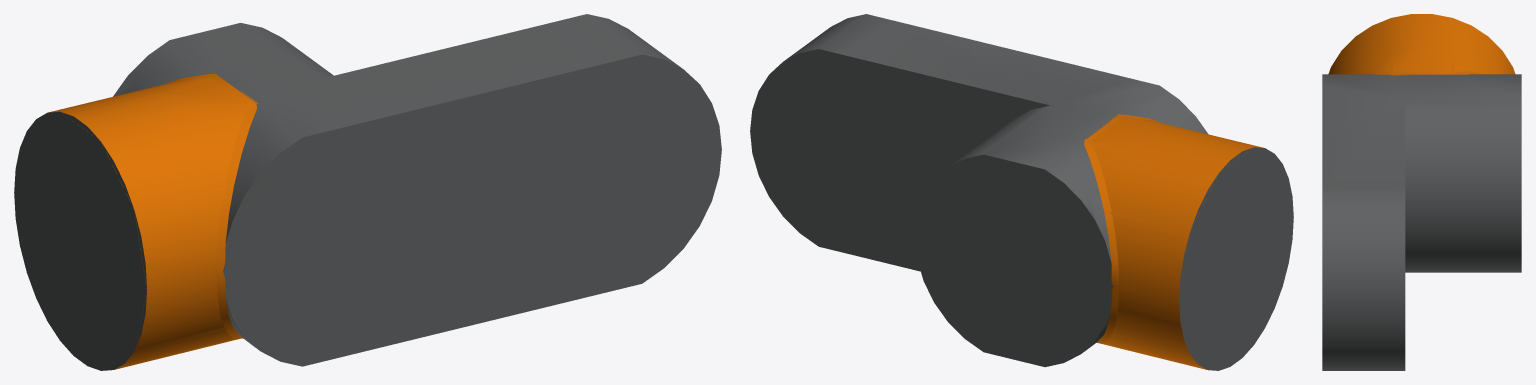
3 views of the same model, side by side, from view 1: azimuth 30°, elevation 25°; view 2: azimuth 150°, elevation 25°; view 3: azimuth 270°, elevation 25° (orthographic). The views are drawn at different scales.
Parts seen in each view (by area): view 1: b1_LOD0, b1_col; view 2: b1_LOD0, b1_col; view 3: b1_LOD0, b1_col.
Part boxes in pixels (x1=…): b1_LOD0: x1=14, y1=14, x2=721, y2=370; b1_col: x1=14, y1=14, x2=721, y2=370; b1_LOD0: x1=750, y1=14, x2=1293, y2=370; b1_col: x1=751, y1=17, x2=1293, y2=370; b1_LOD0: x1=1322, y1=14, x2=1521, y2=370; b1_col: x1=1322, y1=53, x2=1521, y2=198.
Size of what is drawn, in the model's own units: 29.96 by 11.93 by 12.
